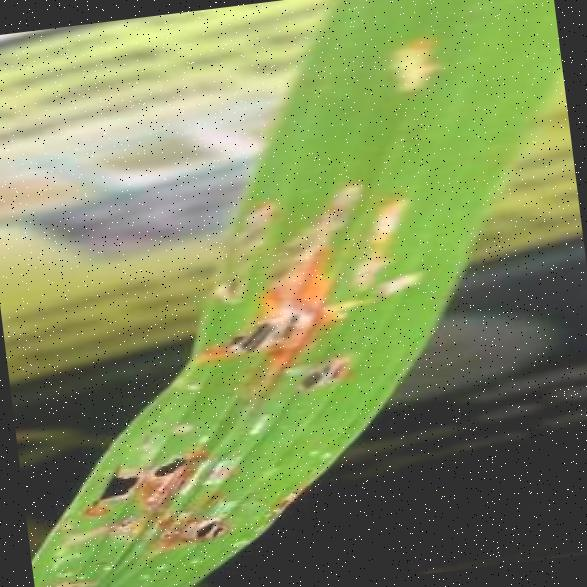Leaf_smut: (71, 421, 218, 528), (187, 181, 302, 312), (126, 486, 272, 576), (211, 294, 347, 374), (272, 331, 368, 410)
